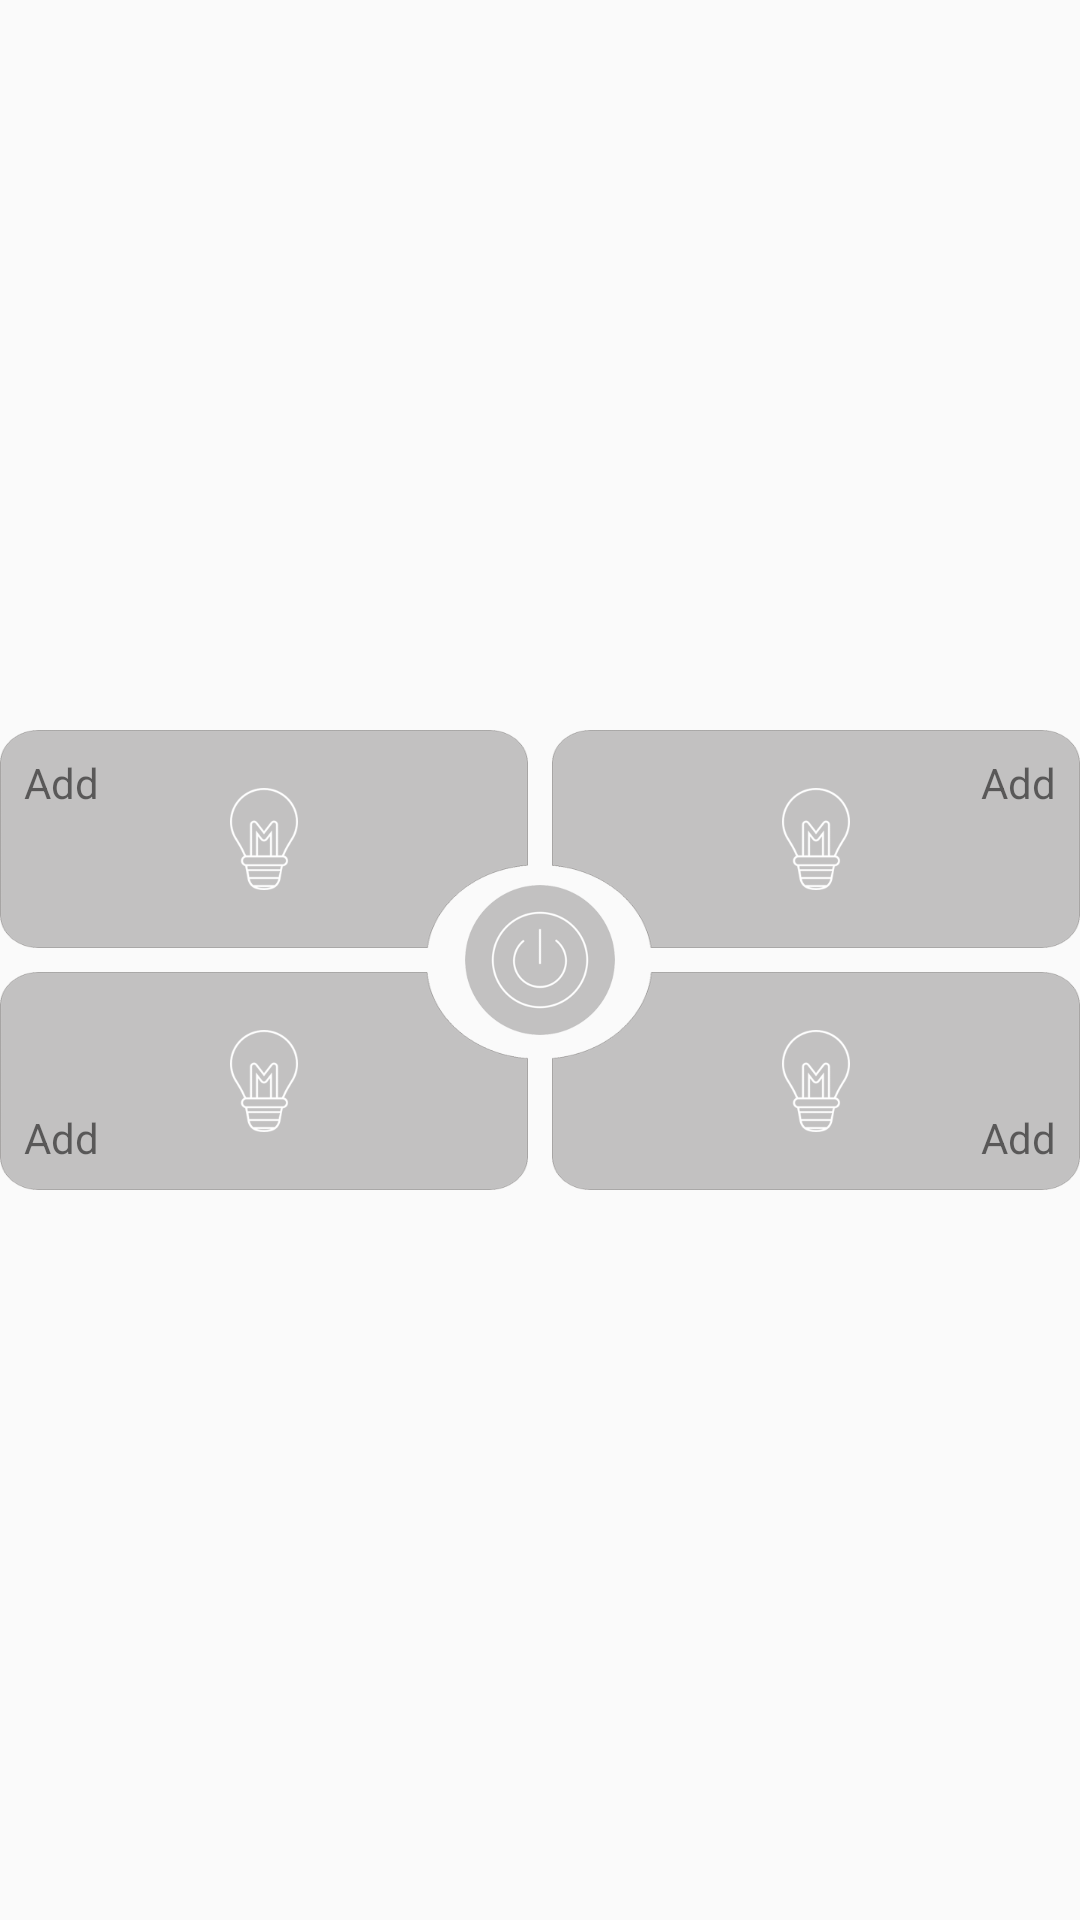

Screen size 1080 × 1920. Icon name, then its center in pixels as (x=x, y=y):
switch off: (x=540, y=960)
